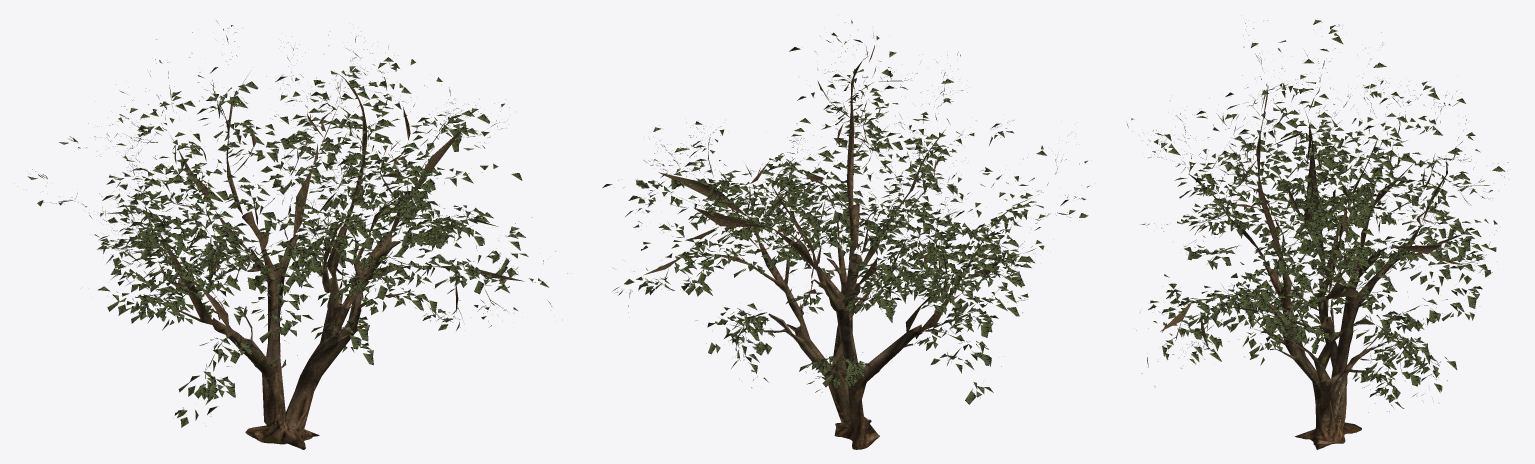
File: jacaranda_tree.glb
3 renders of one model, left to right at view 1: azimuth 30°, elevation 25°; view 2: azimuth 150°, elevation 25°; view 3: azimuth 270°, elevation 25°, orthographic. The views are drawn at different scales.
Parts seen in each view (by area): view 1: jacaranda_tree_LOD0; view 2: jacaranda_tree_LOD0; view 3: jacaranda_tree_LOD0.
Part boxes in pixels (<box>): jacaranda_tree_LOD0: <box>27,20,567,449</box>; jacaranda_tree_LOD0: <box>602,20,1089,449</box>; jacaranda_tree_LOD0: <box>1127,19,1508,449</box>.
Bounding box in the file's own units: 23.51 × 19.33 × 17.87.
Materials: 3 (3 with a texture image).
